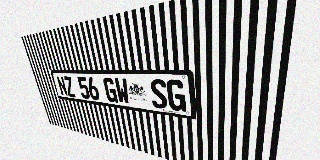5: (77, 77, 91, 99)
6: (86, 77, 100, 101)
G: (166, 79, 186, 112), (102, 77, 118, 103)
N: (56, 76, 68, 96)
S: (149, 79, 168, 110)
W: (114, 78, 130, 105)
Z: (63, 76, 76, 97)
